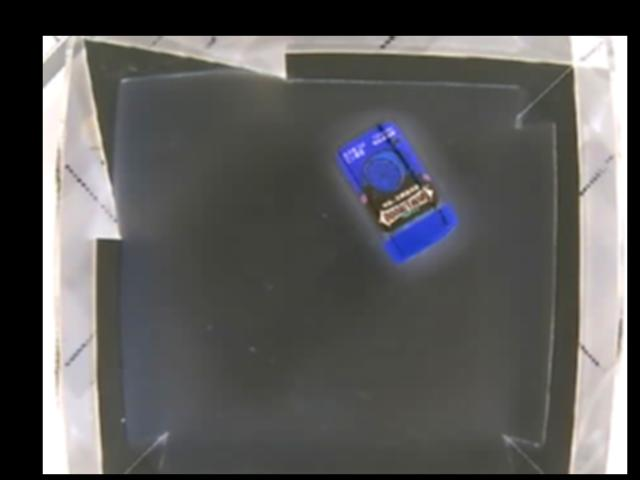Bottle: (335, 118, 454, 267)
